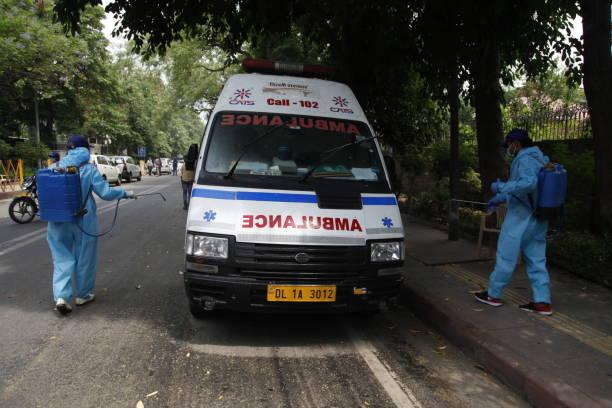ambulance: (193, 59, 396, 307)
